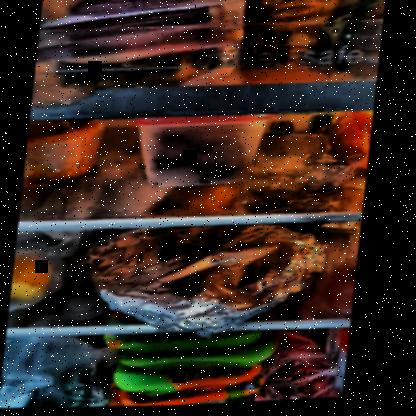chicken: (106, 330, 266, 410)
lemon: (15, 254, 59, 308)
salami: (71, 0, 210, 56)
